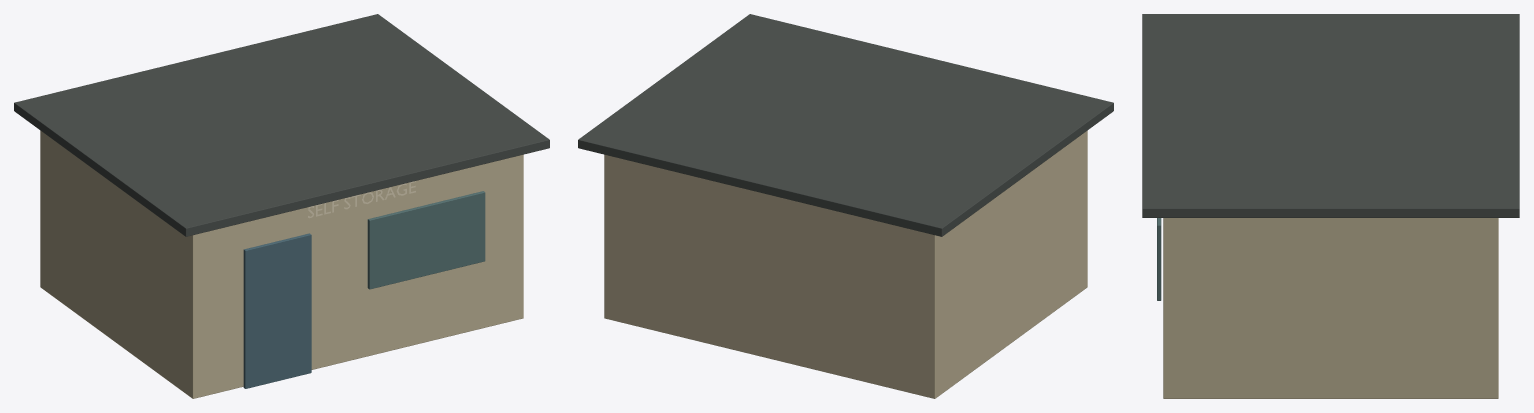
The model's file is env_storage_office.gltf.
3 renders of one model, left to right at view 1: azimuth 30°, elevation 25°; view 2: azimuth 150°, elevation 25°; view 3: azimuth 270°, elevation 25°, orthographic. The views are drawn at different scales.
Visible parts, largest first — view 1: env_storage_office__roof, env_storage_office__paint_cream, env_storage_office__paint_blue, env_storage_office__glass, env_storage_office__paper; view 2: env_storage_office__paint_cream, env_storage_office__roof; view 3: env_storage_office__roof, env_storage_office__paint_cream, env_storage_office__glass.
Boxes of the visible parts, x1,y1,x2,y2 form: env_storage_office__roof: (14, 14, 549, 236); env_storage_office__paint_cream: (40, 130, 523, 398); env_storage_office__paint_blue: (243, 233, 311, 388); env_storage_office__glass: (367, 191, 485, 289); env_storage_office__paper: (308, 181, 415, 218); env_storage_office__paint_cream: (604, 130, 1087, 398); env_storage_office__roof: (578, 14, 1113, 236); env_storage_office__roof: (1142, 14, 1519, 217); env_storage_office__paint_cream: (1163, 218, 1498, 398); env_storage_office__glass: (1157, 218, 1161, 300).
Bounding box in the file's own units: 22 × 10.5 × 18.
